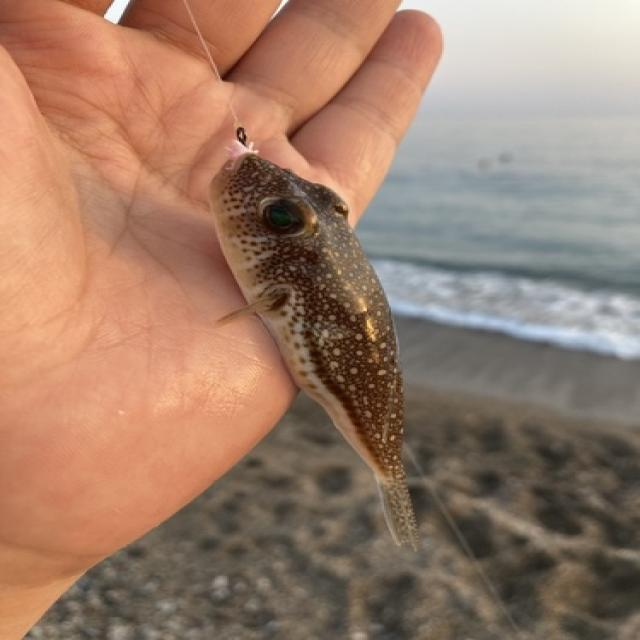Balik: (210, 145, 418, 547)
